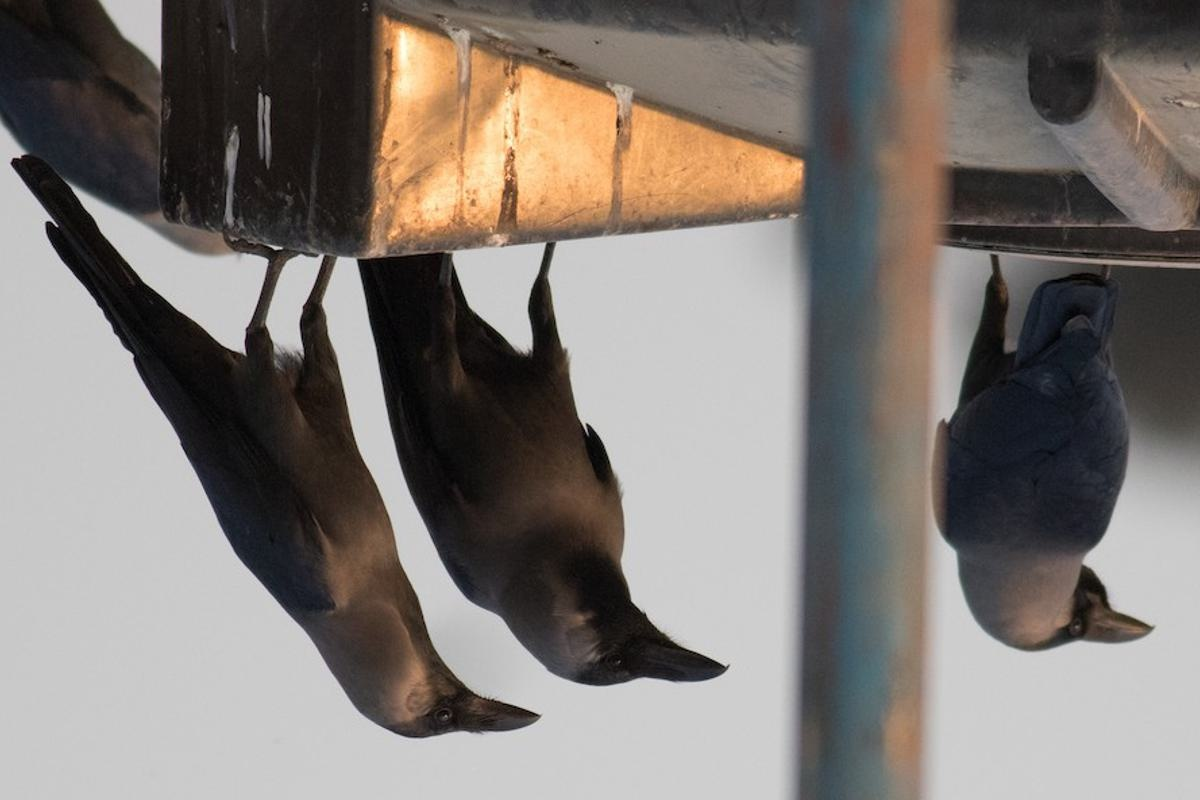crow: (107, 243, 553, 754), (391, 239, 736, 701), (936, 224, 1163, 665)
